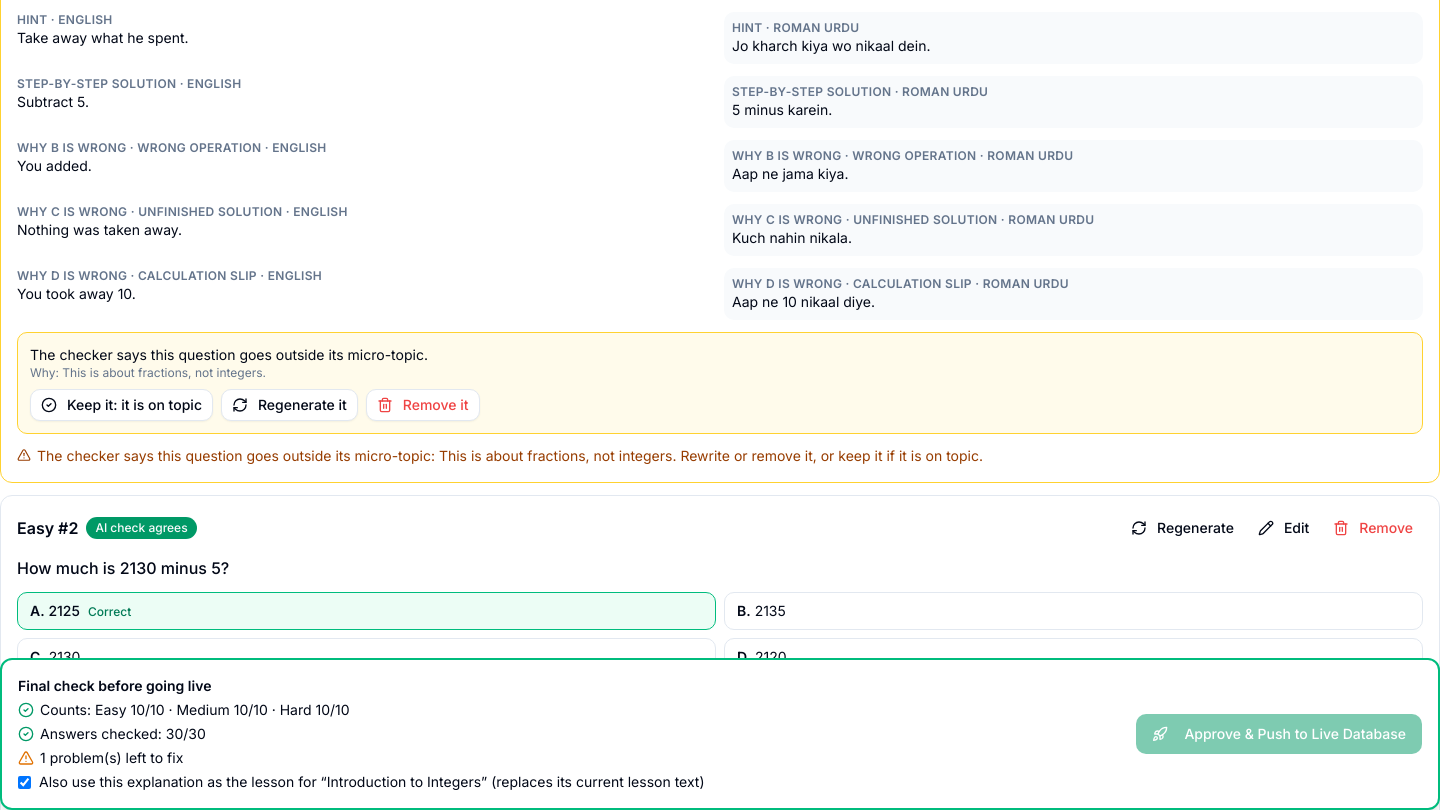
Test: AI draft review (Rule C) › holds back a question the checker found off topic until the admin keeps it
(page scrolled)
expect the text "The checker says this question goes outside its micro-topic." is shown: met, box [30, 346, 428, 363]
expect the text "Why: This is about fractions, not integers." is shown: met, box [30, 365, 266, 380]
Click the button "Keep it: it is on topic". click: (122, 405)
box: [30, 389, 213, 421]
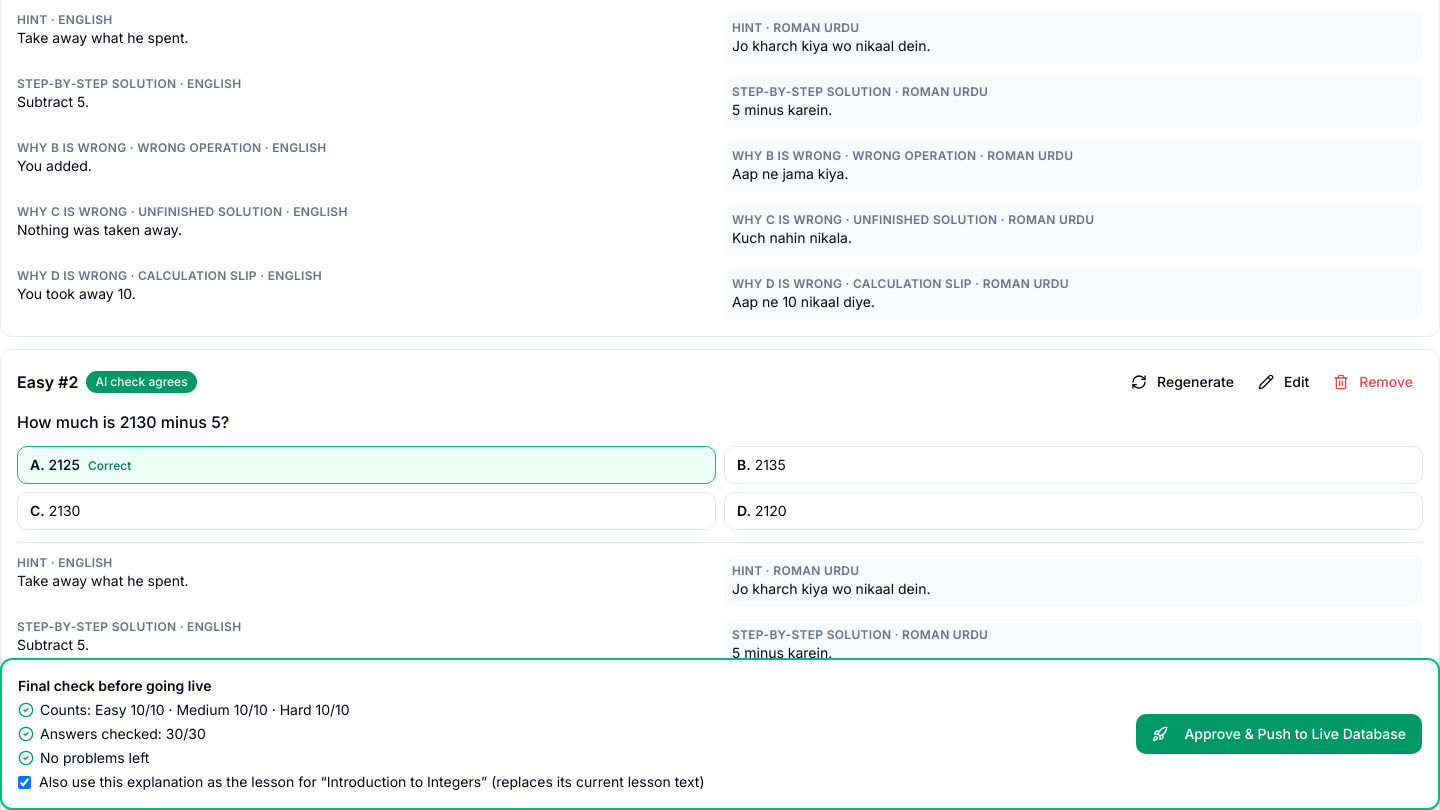
expect the button "Approve & Push to Live Database" is enabled: met, box [1136, 714, 1422, 754]
